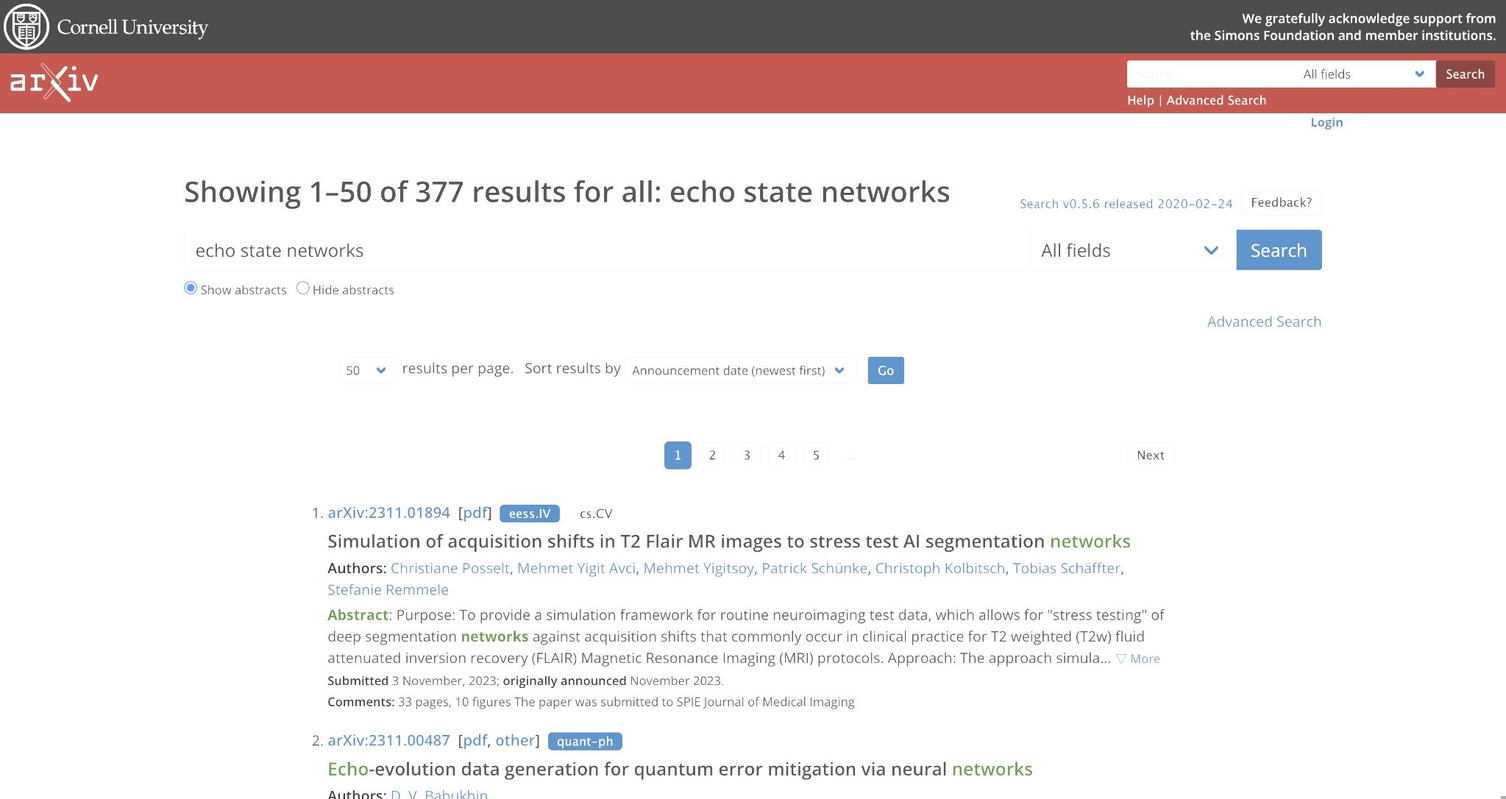webelement: (184, 229, 1322, 345), (0, 0, 1505, 53), (328, 603, 1164, 665), (327, 556, 1178, 599), (184, 229, 1030, 269), (327, 437, 1178, 472), (162, 112, 1343, 131), (327, 530, 1178, 552), (327, 757, 1178, 779), (327, 671, 1178, 689), (327, 693, 1178, 711), (327, 784, 1178, 799), (669, 171, 949, 209), (1190, 10, 1496, 43), (4, 4, 208, 49), (1030, 229, 1237, 269), (397, 692, 853, 709), (624, 356, 856, 384), (1127, 60, 1296, 87), (1296, 60, 1437, 87), (1236, 229, 1322, 269), (10, 63, 97, 102), (1127, 90, 1296, 109), (1020, 196, 1233, 211), (327, 729, 450, 751), (875, 557, 1005, 577), (327, 501, 450, 522), (327, 579, 448, 599), (390, 557, 509, 577), (518, 557, 636, 577), (1207, 310, 1322, 330), (642, 557, 753, 577), (1240, 188, 1321, 215), (1012, 557, 1120, 577), (761, 557, 867, 577), (401, 357, 508, 376), (502, 671, 626, 687), (1049, 529, 1130, 553), (951, 756, 1031, 780), (524, 357, 621, 376), (454, 729, 544, 749), (338, 356, 398, 384), (184, 280, 286, 296), (1436, 60, 1495, 87), (295, 280, 393, 296), (1166, 93, 1266, 107), (390, 785, 487, 799), (547, 732, 621, 750), (1127, 441, 1175, 468), (460, 625, 528, 644), (328, 603, 389, 622), (327, 692, 395, 709), (327, 557, 386, 576), (500, 504, 558, 522), (867, 356, 903, 384), (328, 671, 389, 687), (328, 756, 368, 780), (570, 504, 621, 522), (494, 729, 534, 751), (327, 785, 386, 799), (1115, 649, 1160, 666), (732, 441, 760, 468), (802, 441, 830, 468), (664, 441, 691, 468), (699, 441, 726, 468), (768, 441, 795, 468), (837, 441, 864, 468), (462, 729, 487, 751), (1310, 113, 1343, 129), (462, 501, 487, 522), (1127, 93, 1154, 107), (184, 280, 197, 294), (296, 280, 309, 294)
